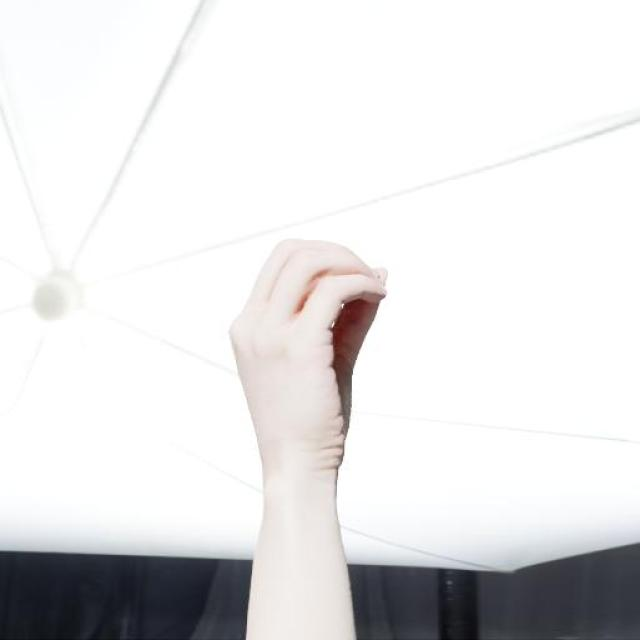O: (226, 235, 394, 476)
